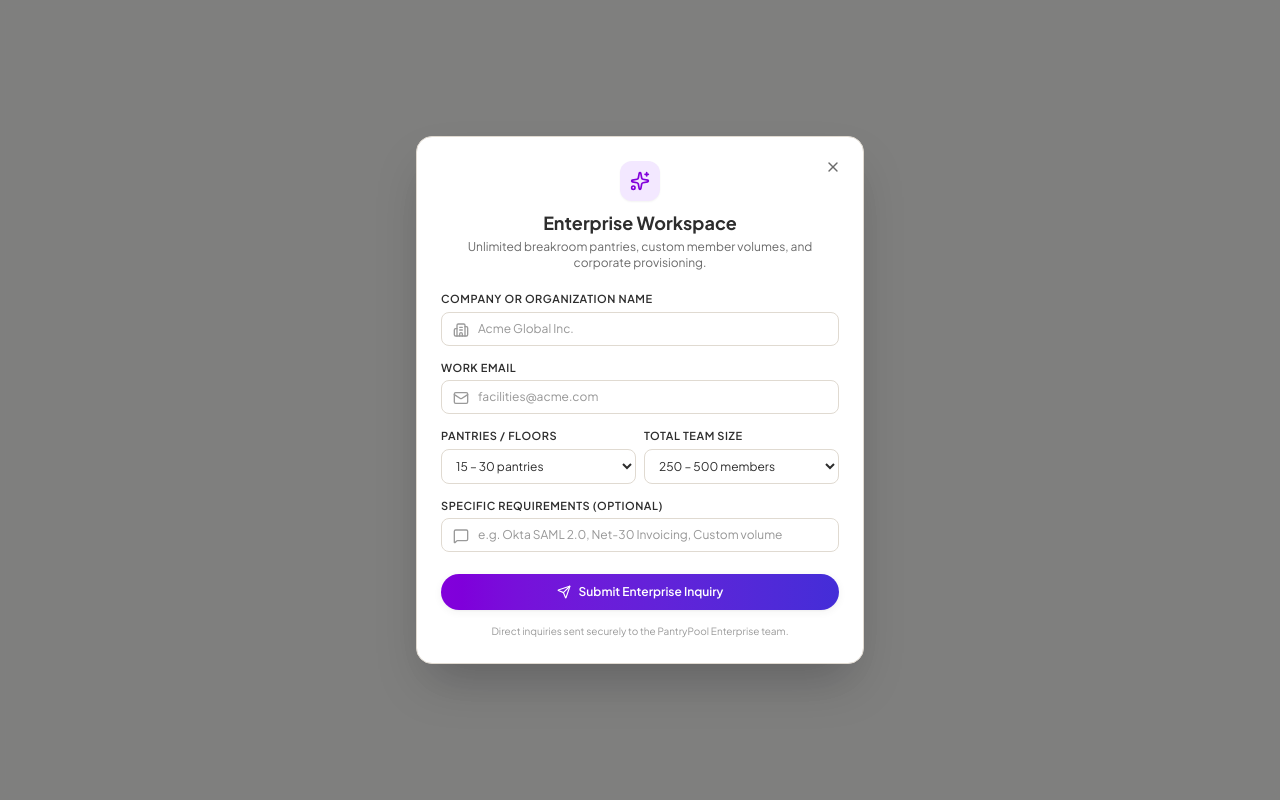
EnterpriseInquiryModal Component › shows error banner when API returns error
Type "Wayne Enterprises" into the field with placeholder "Acme Global Inc." at point(640, 328), box [441, 312, 839, 346]
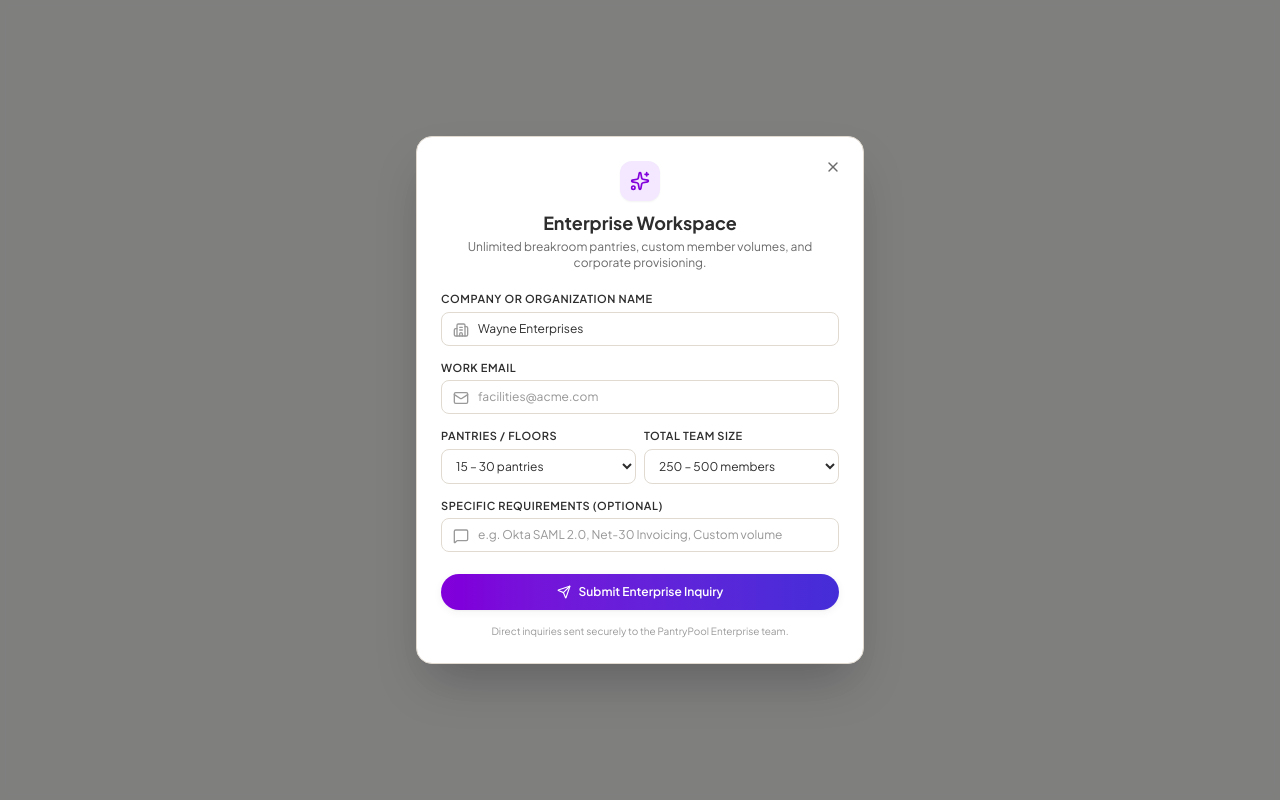
Type "bruce@wayne.com" into the field with placeholder "facilities@acme.com" at point(640, 397), box [441, 380, 839, 414]
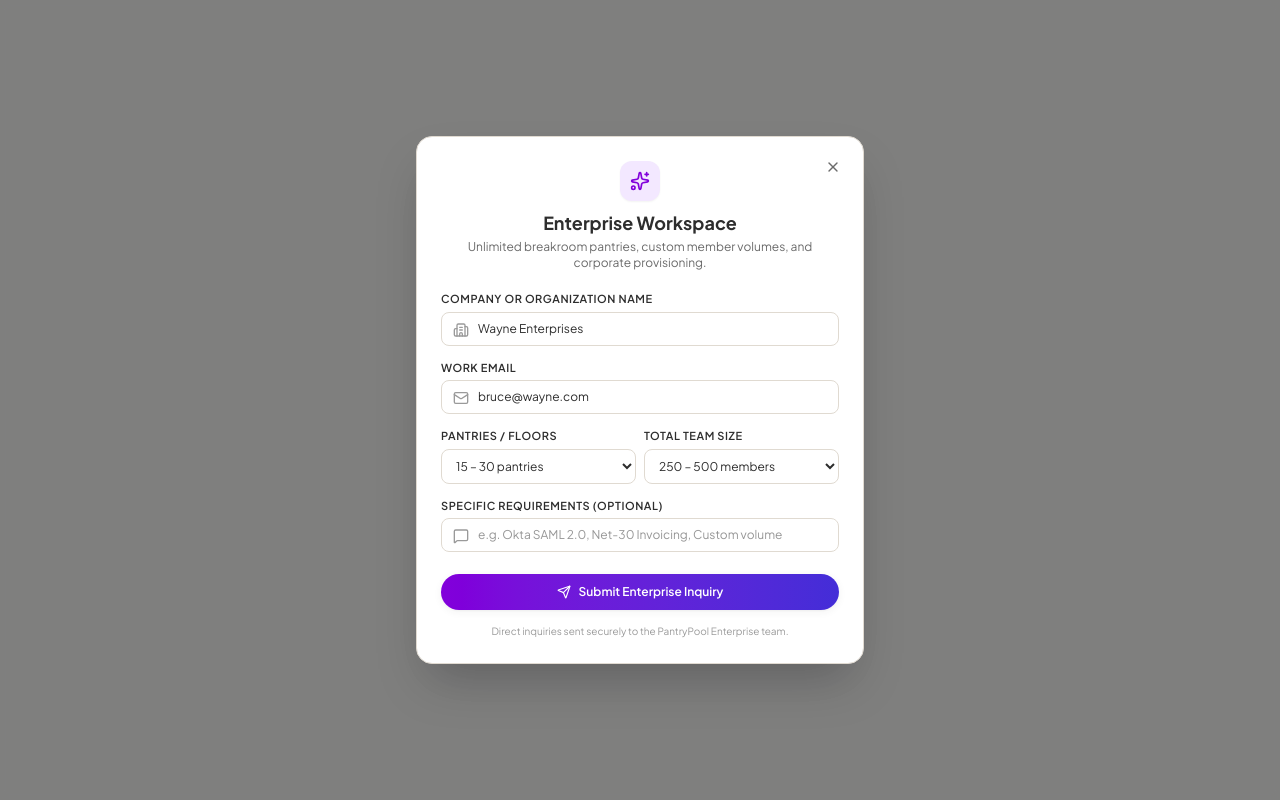
Click the button "Submit Enterprise Inquiry" at point(640, 592), box [441, 574, 839, 610]
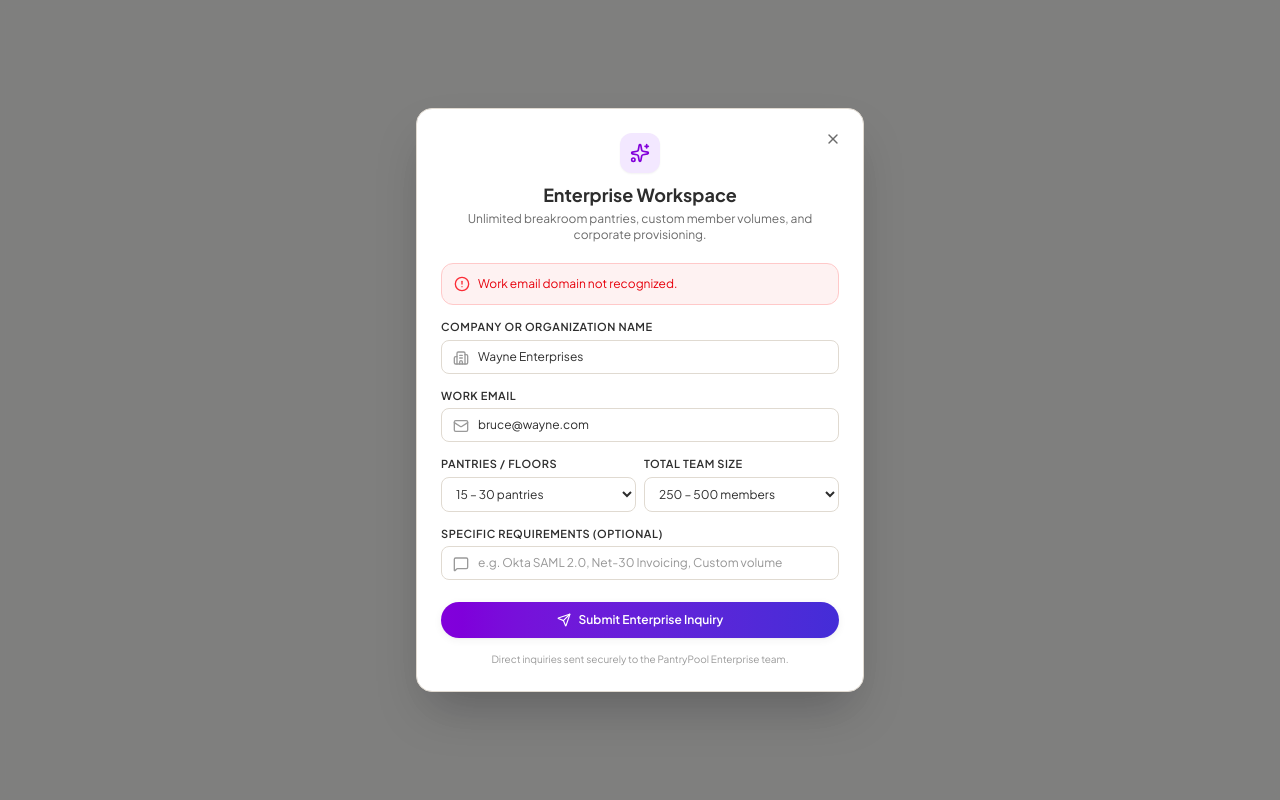
Check: the text "Work email domain not recognized." is shown, box [478, 276, 677, 292]
